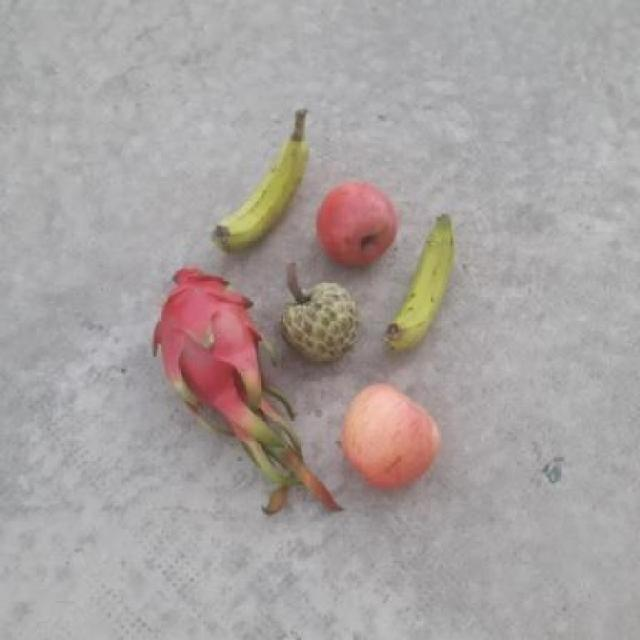apple: (335, 380, 456, 502), (313, 178, 404, 271)
banana: (207, 123, 311, 254), (384, 214, 461, 348)
dragon fruit: (149, 275, 269, 397)
sugar apple: (276, 281, 359, 362)
